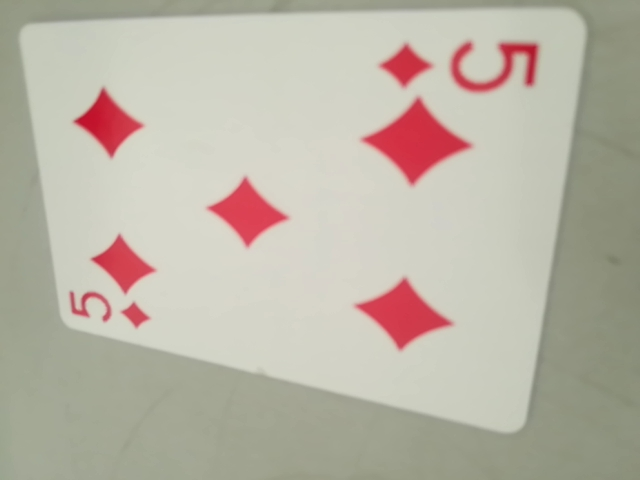fk 5: (376, 28, 544, 100), (62, 285, 152, 335)
